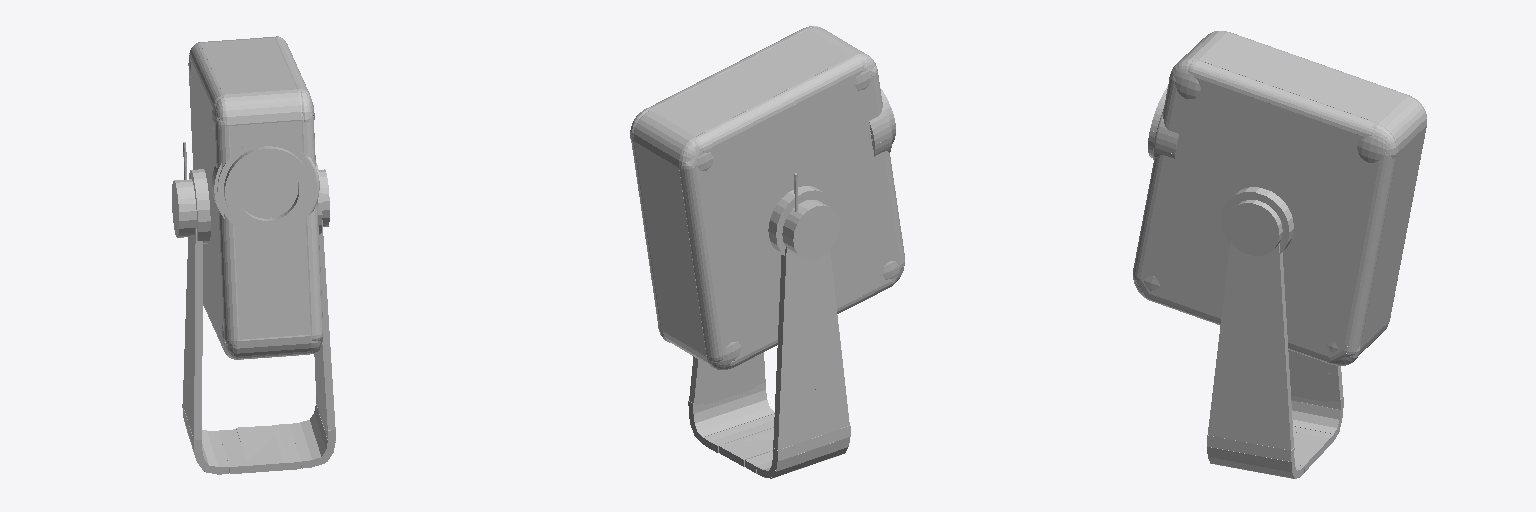
The model's file is iot.obj.
3 renders of one model, left to right at view 1: azimuth 30°, elevation 25°; view 2: azimuth 150°, elevation 25°; view 3: azimuth 270°, elevation 25°, orthographic.
Visible parts, largest first — view 1: Part64, Part71, Glossy1, Part63, Part24, Part51, Part59, Part79, Part58, Part37, Part14, Part61 (+8 smaller); view 2: Part63, Part61, Part71, Part72, Part25, Part24, Part65, Part62, Part2, Part82, Part11, Part23 (+11 smaller); view 3: Part80, Part74, Part71, Part13, Part14, Part72, Part78, Part77, Part3, Part22, Part12, Part79 (+8 smaller).
Boxes of the visible parts, x1,y1,x2,y2 form: Part64: [235, 219, 310, 339]; Part71: [200, 38, 296, 94]; Glossy1: [237, 161, 297, 218]; Part63: [189, 56, 223, 346]; Part24: [189, 228, 202, 439]; Part51: [215, 123, 239, 340]; Part59: [224, 89, 301, 125]; Part79: [302, 117, 322, 335]; Part58: [227, 121, 302, 155]; Part37: [236, 335, 310, 359]; Part14: [319, 220, 335, 430]; Part61: [189, 74, 223, 330]; Part63: [704, 71, 891, 360]; Part61: [696, 76, 899, 355]; Part71: [651, 30, 852, 136]; Part72: [634, 141, 706, 356]; Part25: [773, 247, 810, 449]; Part24: [801, 250, 849, 434]; Part65: [679, 167, 722, 357]; Part62: [697, 57, 860, 150]; Part2: [782, 200, 838, 259]; Part82: [634, 110, 694, 167]; Part11: [704, 356, 756, 404]; Part23: [768, 186, 834, 255]; Part80: [1149, 77, 1366, 356]; Part74: [1140, 88, 1379, 349]; Part71: [1199, 32, 1407, 122]; Part13: [1246, 243, 1293, 450]; Part14: [1208, 240, 1262, 441]; Part72: [1361, 126, 1426, 347]; Part78: [1191, 60, 1377, 136]; Part77: [1344, 154, 1396, 351]; Part3: [1226, 200, 1282, 255]; Part22: [1288, 350, 1329, 402]; Part12: [1221, 187, 1293, 253]; Part79: [1133, 79, 1175, 278].
Bounding box in the file's own units: 1.53 × 3.48 × 2.36.